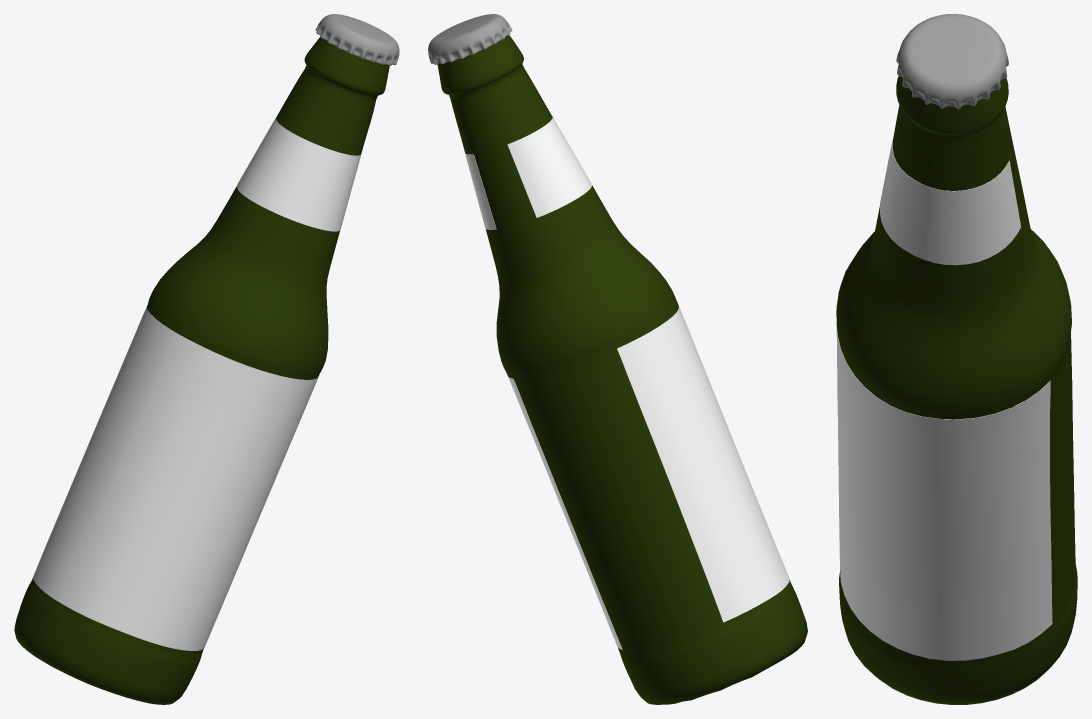
File: BEER_TG_006.glb
3 renders of one model, left to right at view 1: azimuth 30°, elevation 25°; view 2: azimuth 150°, elevation 25°; view 3: azimuth 270°, elevation 25°, orthographic. The views are drawn at different scales.
Parts seen in each view (by area): view 1: Liquid__Copy_; view 2: Liquid__Copy_; view 3: Liquid__Copy_.
Part boxes in pixels (x1,y1,x2,y2): Liquid__Copy_: (14, 14, 399, 704); Liquid__Copy_: (428, 14, 807, 704); Liquid__Copy_: (836, 14, 1077, 704).
Bounding box in the file's own units: 115 × 189 × 51.82.
